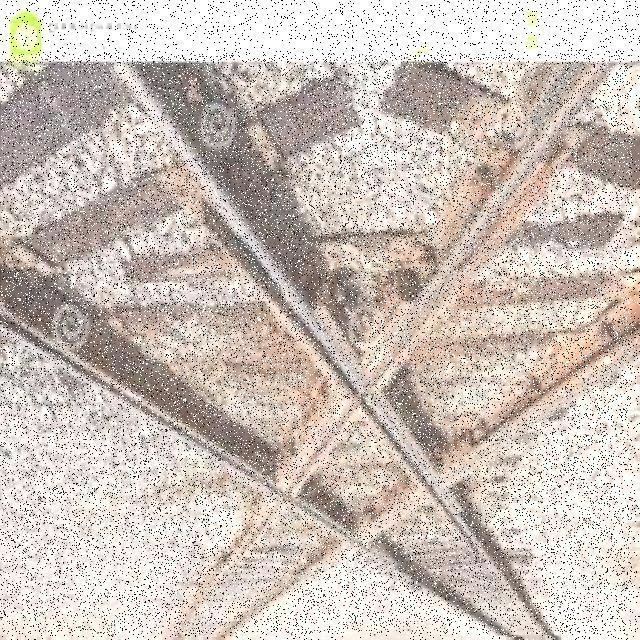rail: (2, 55, 633, 635)
